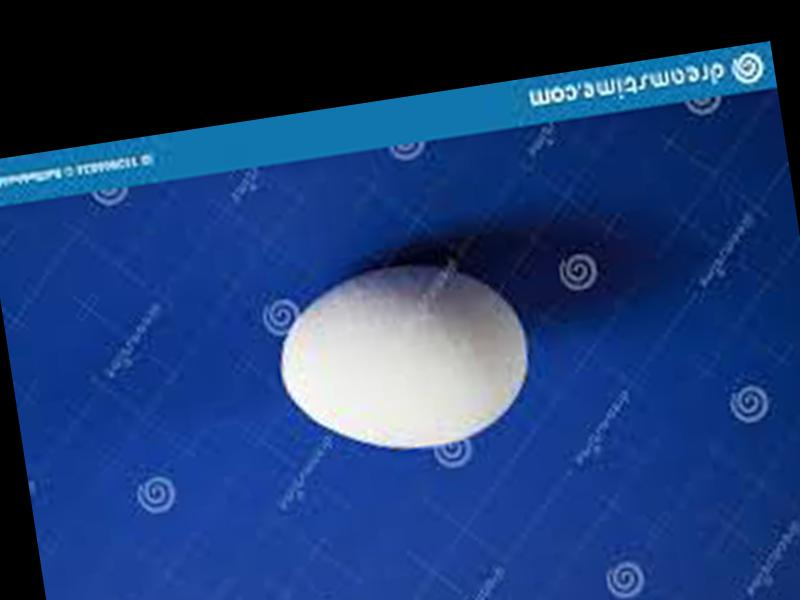Eggs: (267, 248, 540, 465)
